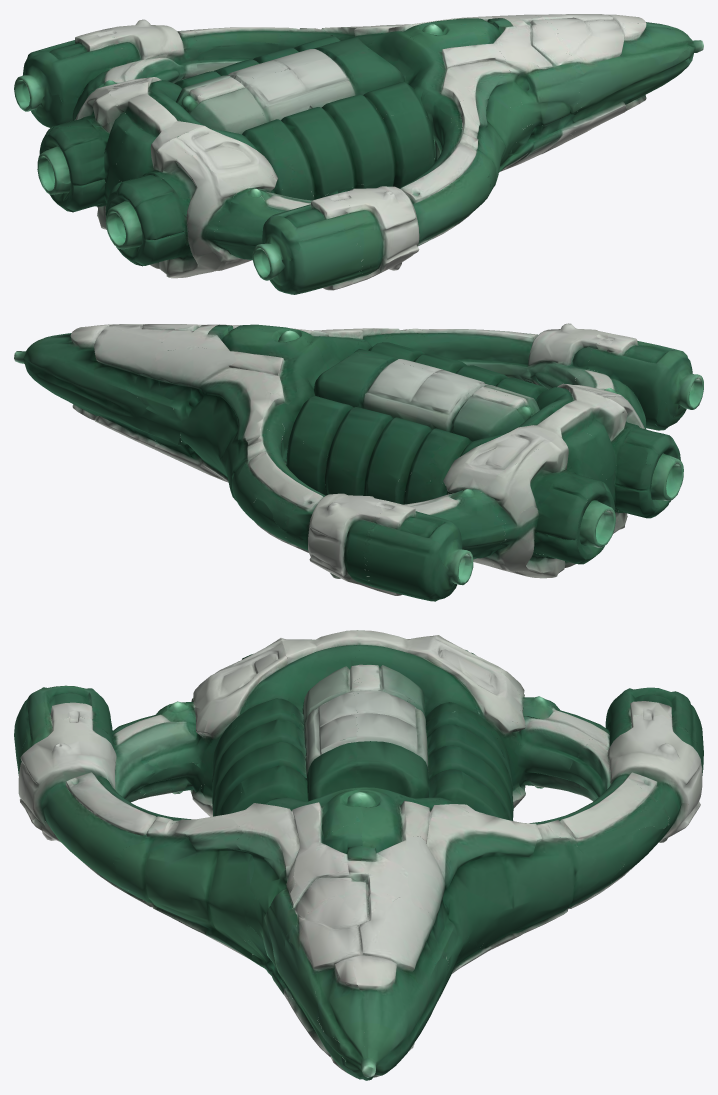
The model's file is ark_meridian.glb.
3 renders of one model, top to bottom at view 1: azimuth 30°, elevation 25°; view 2: azimuth 150°, elevation 25°; view 3: azimuth 270°, elevation 25°, orthographic. The views are drawn at different scales.
Visible parts, largest first — view 1: tripo_node_bf68dd65-ef7e-48a3-9dc0-e4acd709ba38; view 2: tripo_node_bf68dd65-ef7e-48a3-9dc0-e4acd709ba38; view 3: tripo_node_bf68dd65-ef7e-48a3-9dc0-e4acd709ba38.
Boxes of the visible parts, x1,y1,x2,y2 form: tripo_node_bf68dd65-ef7e-48a3-9dc0-e4acd709ba38: (14,14,703,294); tripo_node_bf68dd65-ef7e-48a3-9dc0-e4acd709ba38: (14,323,703,601); tripo_node_bf68dd65-ef7e-48a3-9dc0-e4acd709ba38: (14,630,703,1080).
Bounding box in the file's own units: 2 × 0.5106 × 1.52.
Materials: 1 (1 with a texture image).
